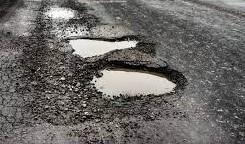pothole: (91, 58, 186, 100), (61, 33, 145, 61), (35, 5, 89, 23)
